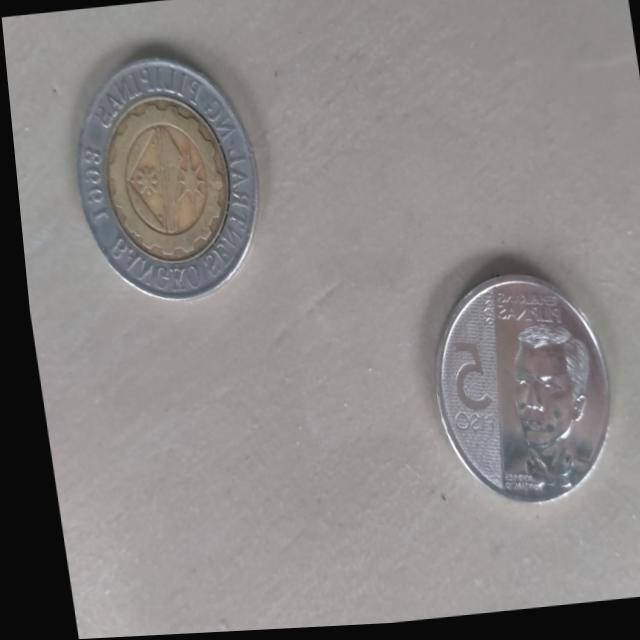10_Old_Back: (57, 46, 269, 309)
5_New_Front: (425, 324, 494, 441)
